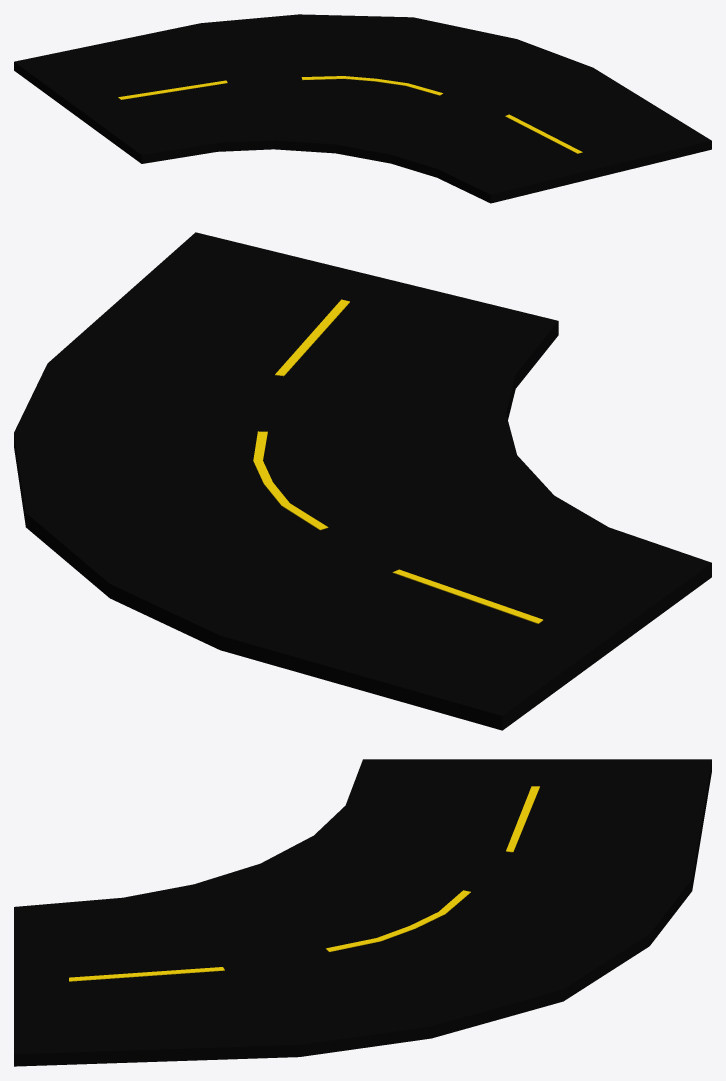
File: Road Turn.fbx
3 renders of one model, top to bottom at view 1: azimuth 30°, elevation 25°; view 2: azimuth 150°, elevation 25°; view 3: azimuth 270°, elevation 25°, orthographic. The views are drawn at different scales.
Visible parts, largest first — view 1: Cube.001; view 2: Cube.001; view 3: Cube.001.
Part boxes in pixels (x1,y1,x2,y2): Cube.001: (14, 14, 711, 203); Cube.001: (14, 232, 711, 730); Cube.001: (14, 759, 711, 1066).
Size of the model in its own units: 1600 by 32.29 by 1600.
Materials: 1 (1 with a texture image).
